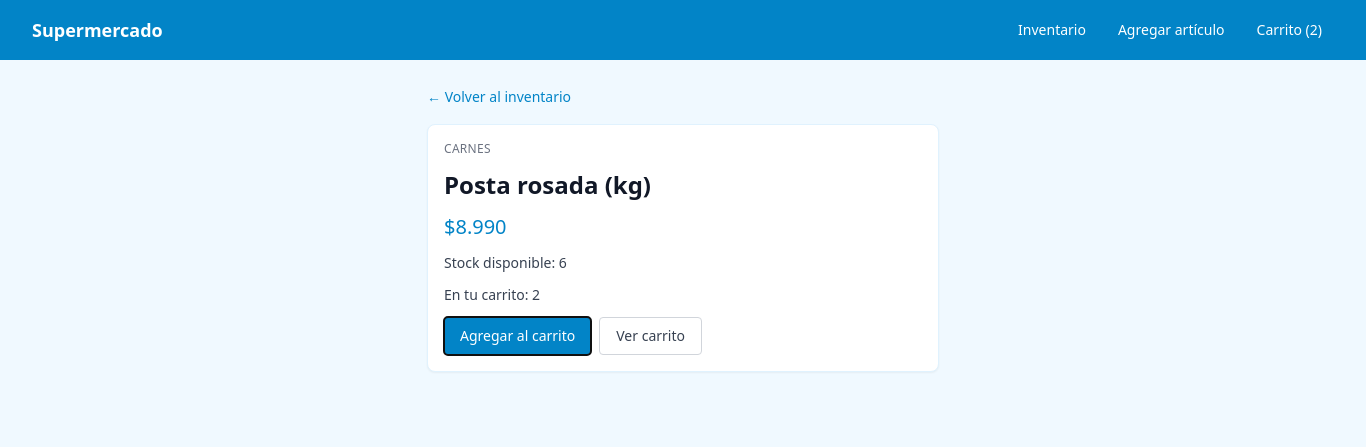
Detalle y carrito › deshabilita agregar cuando se agota el stock
Earlier steps of the test are not shown.
Click the button "Agregar al carrito" at (518, 336), box [444,317,591,355]
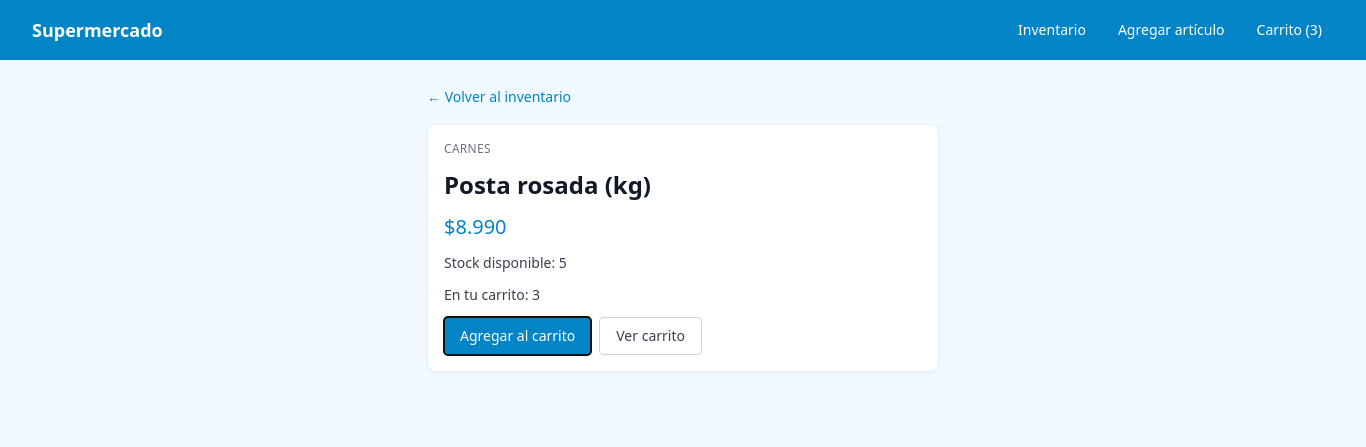
Click the button "Agregar al carrito" at (518, 336), box [444,317,591,355]
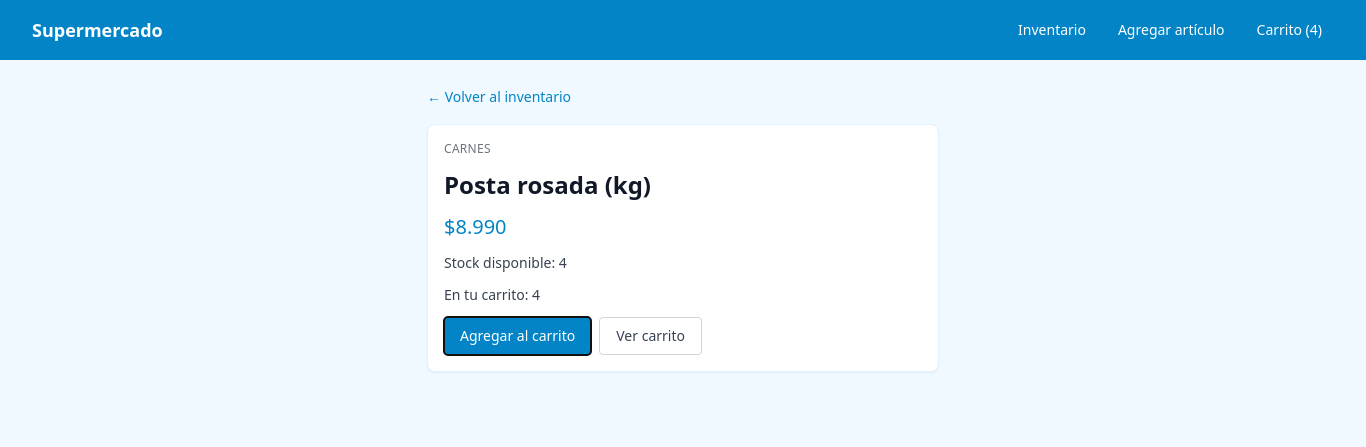
Click the button "Agregar al carrito" at (518, 336), box [444,317,591,355]
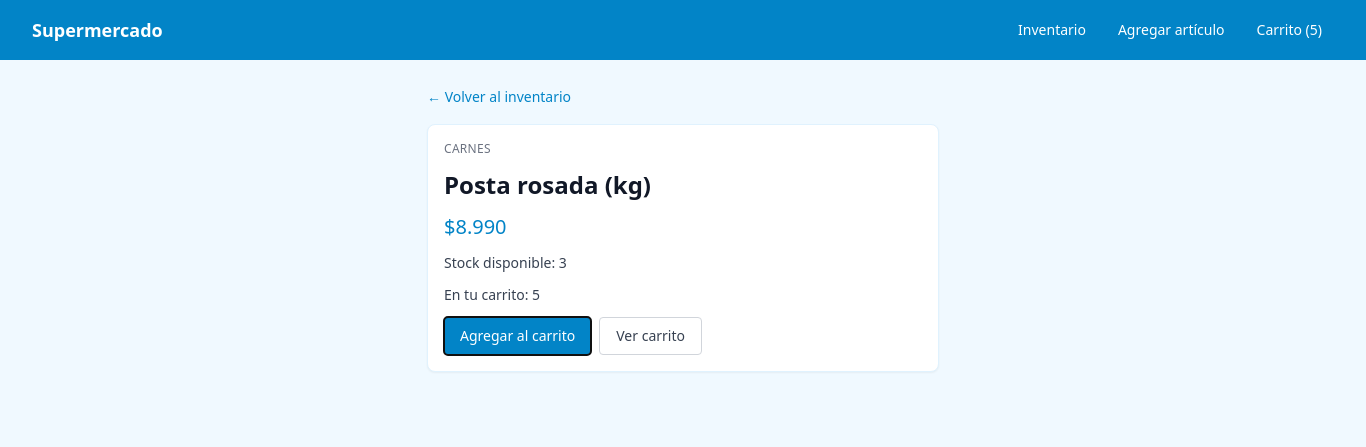
Click the button "Agregar al carrito" at (518, 336), box [444,317,591,355]
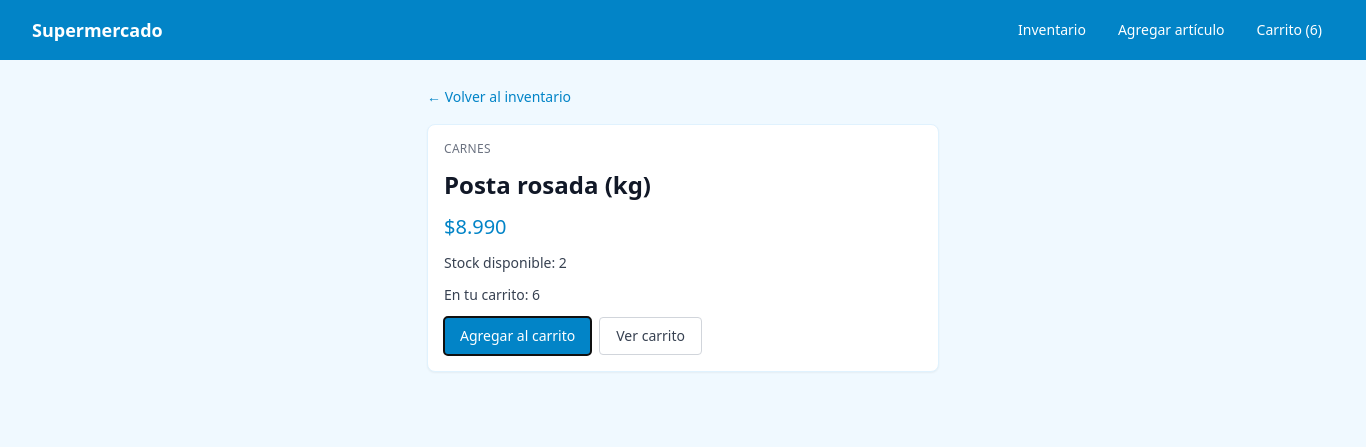
Click the button "Agregar al carrito" at (518, 336), box [444,317,591,355]
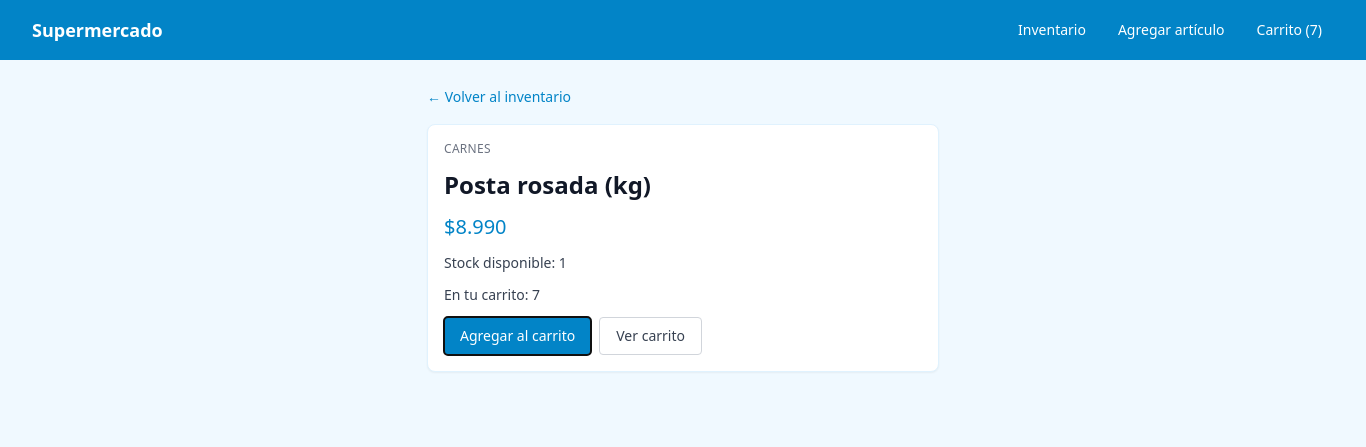
Click the button "Agregar al carrito" at (518, 336), box [444,317,591,355]
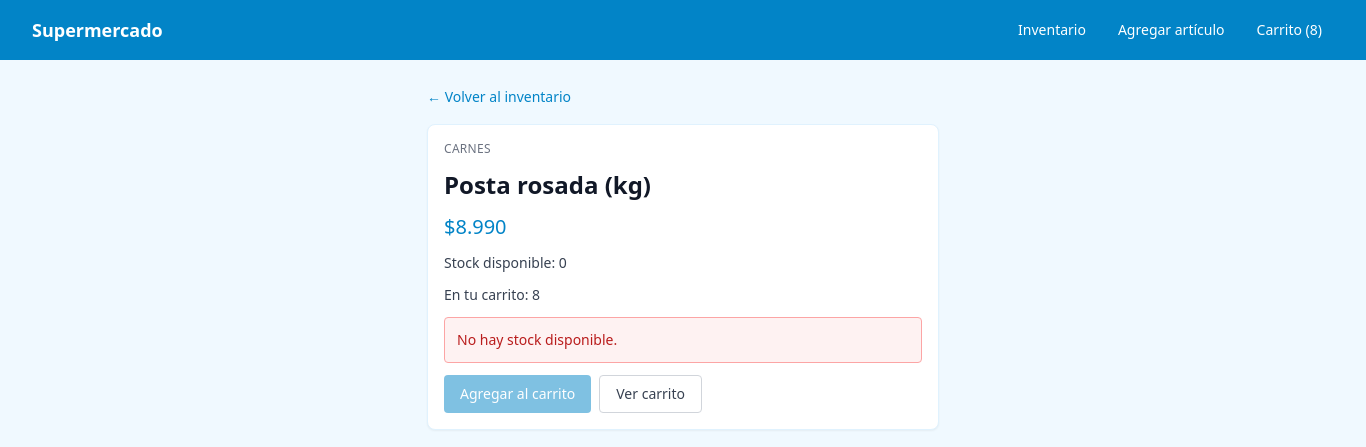
Check: the button "Agregar al carrito" is disabled, box [444,375,591,413]
Check: the message shows "No hay stock", box [457,330,617,349]
